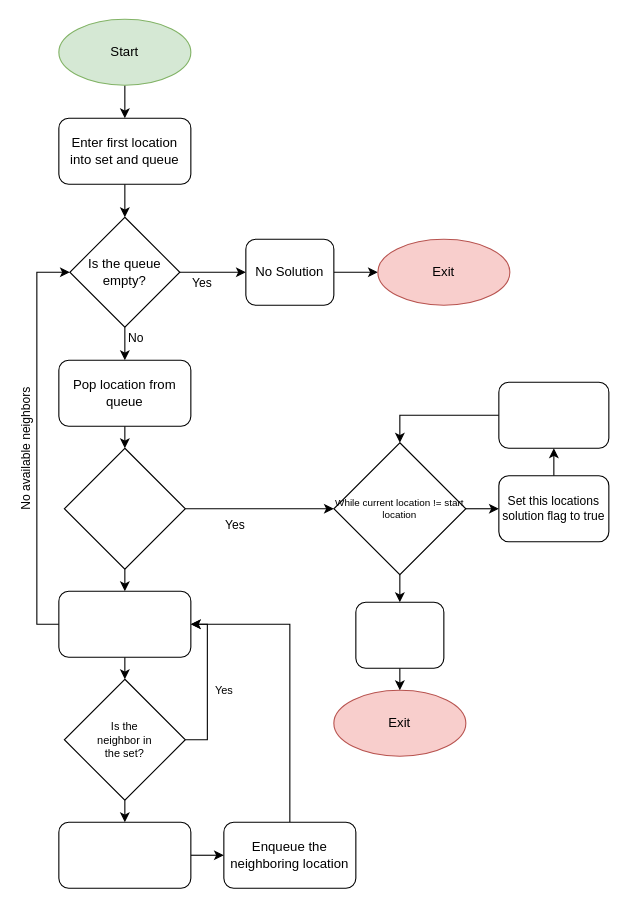
Image size: 628x908. Some labels were removed from this diagram. Each missing label, with the box of its shape:
Get next available neighboring location: (58, 590, 191, 657)
Go to previous location using previous pointer: (498, 381, 609, 448)
Is this the target location?: (63, 447, 185, 569)
Set the neighbor's previous pointer to the current location: (58, 821, 191, 888)
Solution Found: (355, 601, 444, 668)
